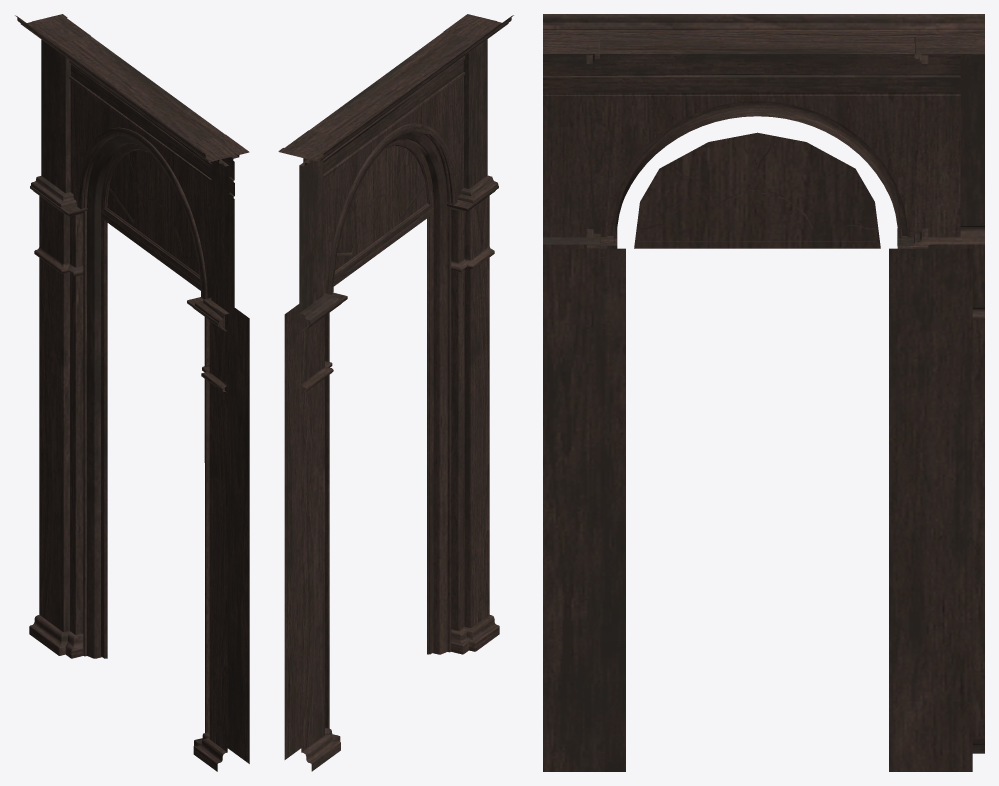
File: Entrance_Door_2.fbx
The picture shows the model from 3 angles, left to right: view 1: azimuth 30°, elevation 25°; view 2: azimuth 150°, elevation 25°; view 3: azimuth 270°, elevation 25°; orthographic projection. The views are drawn at different scales.
Parts seen in each view (by area): view 1: LibraryEntranceDoor2_LOD0; view 2: LibraryEntranceDoor2_LOD0; view 3: LibraryEntranceDoor2_LOD0.
Boxes of the visible parts, x1,y1,x2,y2 form: LibraryEntranceDoor2_LOD0: (15, 14, 249, 771); LibraryEntranceDoor2_LOD0: (278, 14, 513, 771); LibraryEntranceDoor2_LOD0: (543, 14, 984, 771).
Bounding box in the file's own units: 40 × 491 × 269.
